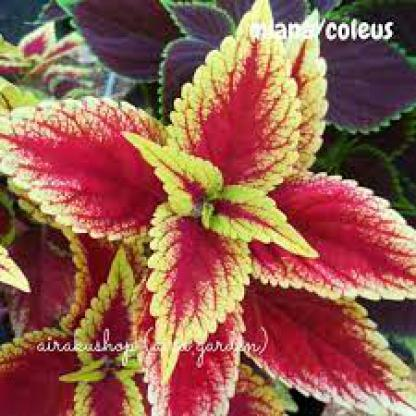Bunga Coleus: (12, 57, 404, 401)
